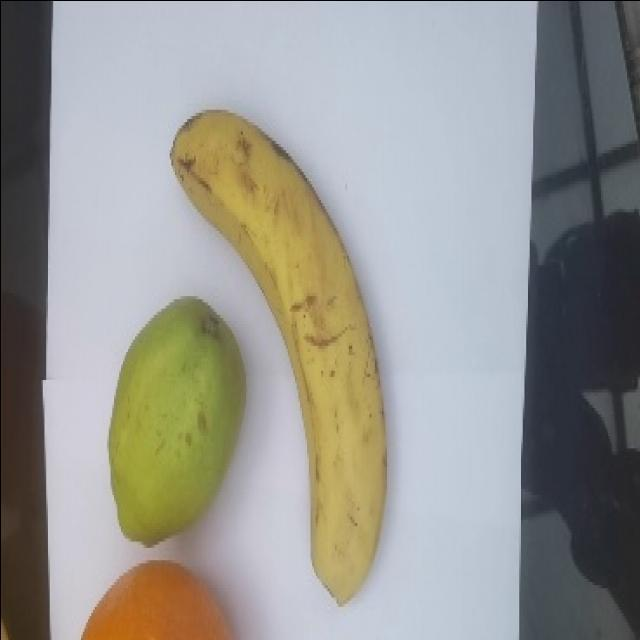Banana: (168, 107, 388, 606)
Orange: (80, 559, 233, 639)
